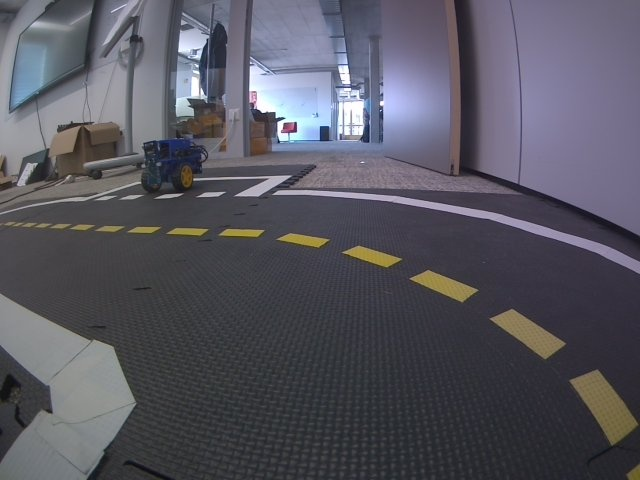Bot: (140, 135, 207, 192)
occupiedSlot: (88, 174, 290, 201)
